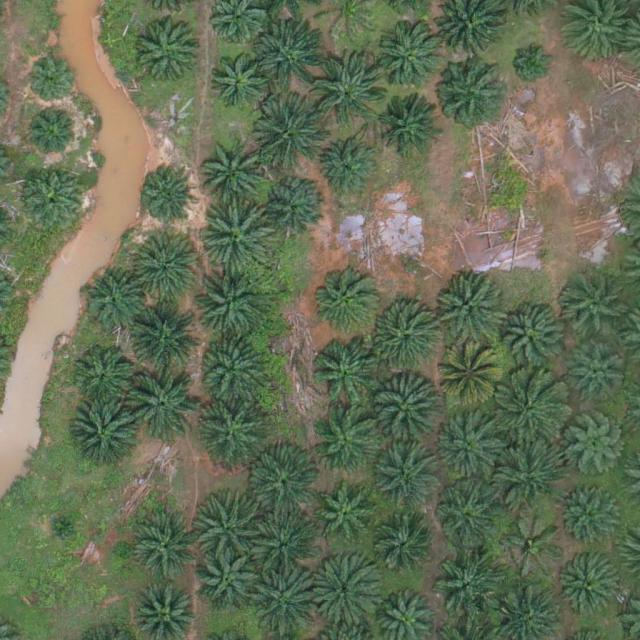Healthy: (372, 377, 443, 448), (311, 341, 382, 412), (309, 555, 380, 626), (252, 565, 323, 636), (200, 332, 271, 403), (255, 100, 326, 171), (256, 20, 327, 91), (131, 233, 202, 304), (495, 373, 566, 443), (313, 407, 383, 478), (196, 396, 266, 467), (126, 369, 196, 440), (557, 272, 627, 343), (434, 276, 504, 347), (436, 62, 506, 133), (377, 21, 447, 92), (314, 55, 384, 126), (312, 265, 382, 336), (204, 204, 274, 275), (195, 273, 265, 344), (131, 300, 201, 371), (493, 443, 563, 513), (433, 548, 503, 618), (251, 454, 321, 524), (196, 489, 266, 559), (68, 402, 138, 472), (495, 303, 565, 373), (366, 304, 436, 374), (202, 133, 272, 203), (314, 484, 377, 547), (72, 346, 135, 409), (84, 271, 147, 334), (560, 484, 622, 547), (558, 556, 620, 619), (434, 414, 496, 477), (435, 484, 497, 547), (376, 450, 438, 513), (253, 514, 315, 577), (197, 550, 259, 613), (135, 519, 197, 582), (378, 95, 440, 158), (317, 141, 380, 203), (262, 175, 324, 238), (208, 48, 270, 111), (139, 20, 201, 83), (22, 166, 84, 229), (562, 418, 624, 480), (371, 521, 433, 583), (139, 166, 194, 221), (570, 349, 624, 404), (26, 105, 80, 160)
Small: (28, 59, 75, 107), (510, 39, 557, 86), (46, 511, 77, 543)
Yellow: (503, 515, 565, 578), (437, 348, 500, 410)
